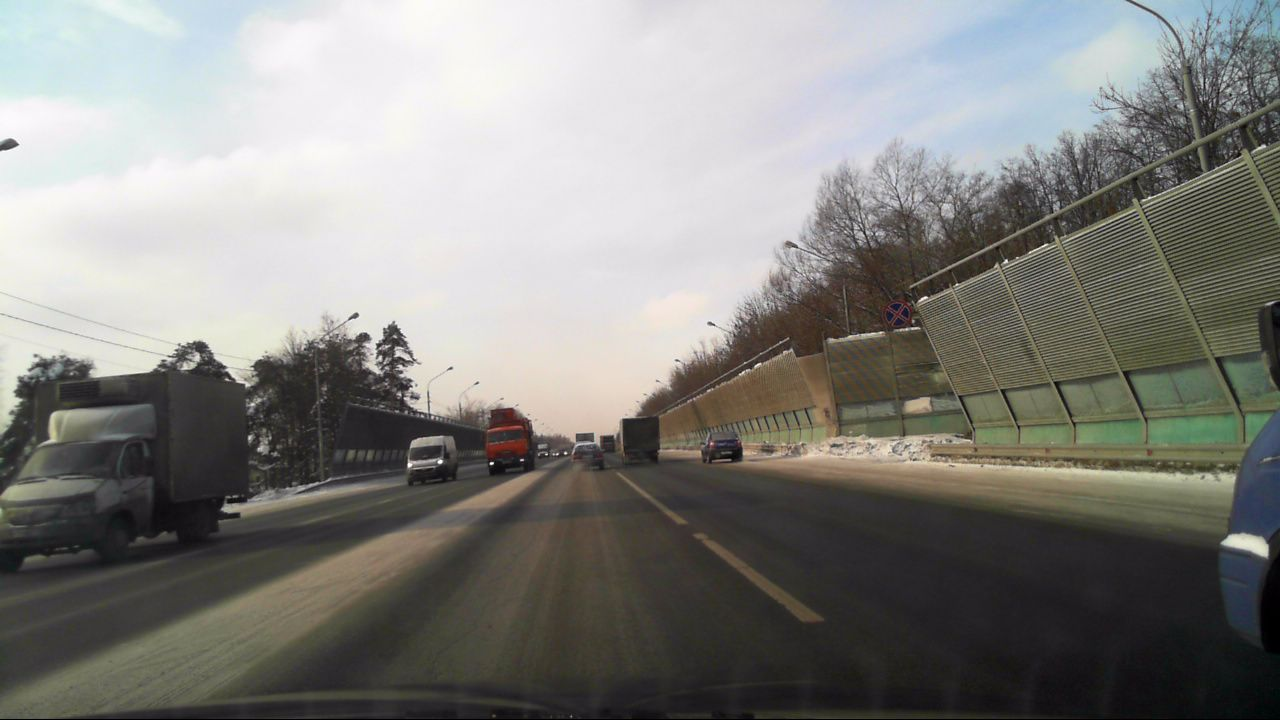No Parking: (882, 300, 912, 328)
